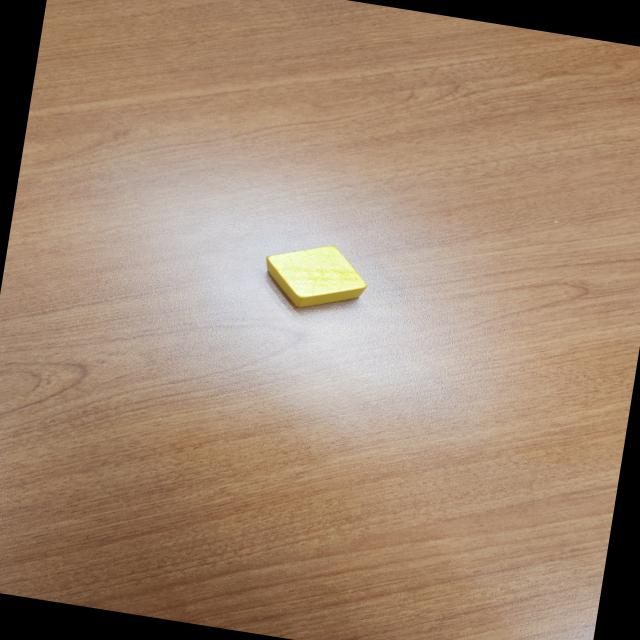yellow: (258, 236, 373, 319)
